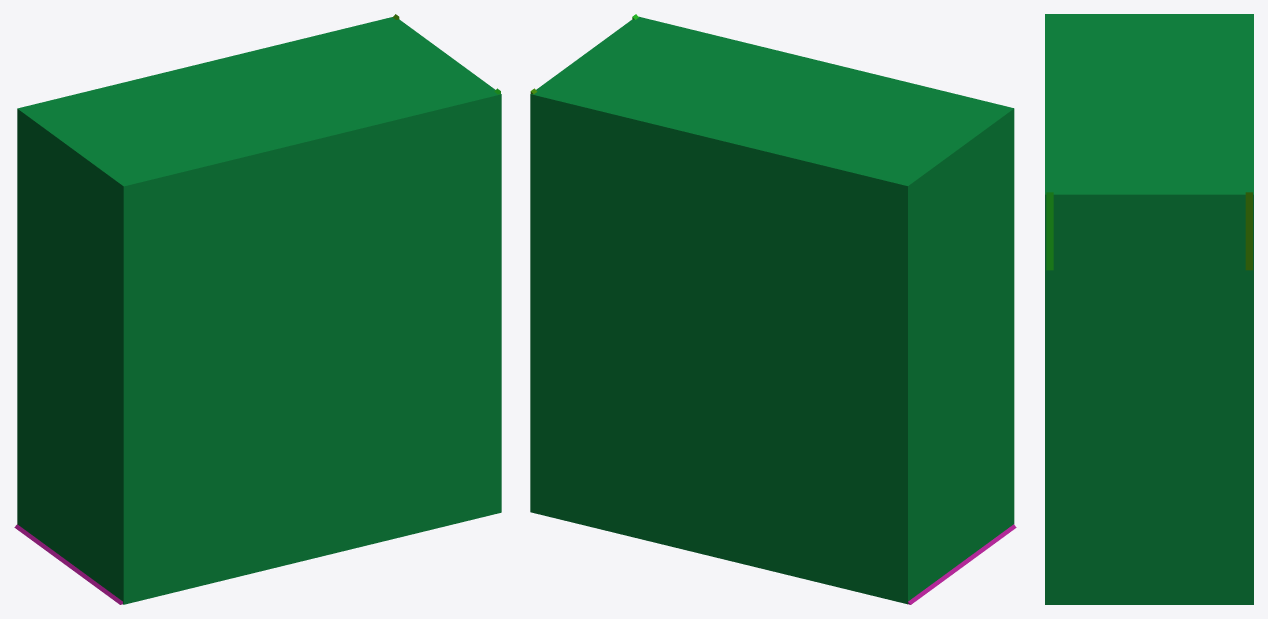
The model's file is SciFi_walkway_stairs.DAE.
3 views of the same model, side by side, from view 1: azimuth 30°, elevation 25°; view 2: azimuth 150°, elevation 25°; view 3: azimuth 270°, elevation 25° (orthographic).
Visible parts, largest first — view 1: bounds, col-01; view 2: bounds, col-01; view 3: bounds, col-02, col-03.
Part boxes in pixels (x1,y1,x2,y2): bounds: (17, 17, 501, 604); col-01: (14, 524, 122, 604); bounds: (530, 16, 1014, 604); col-01: (908, 524, 1016, 604); bounds: (1045, 14, 1253, 604); col-02: (1046, 192, 1053, 270); col-03: (1245, 192, 1252, 270).
Bounding box in the file's own units: 626 × 303 × 662.
